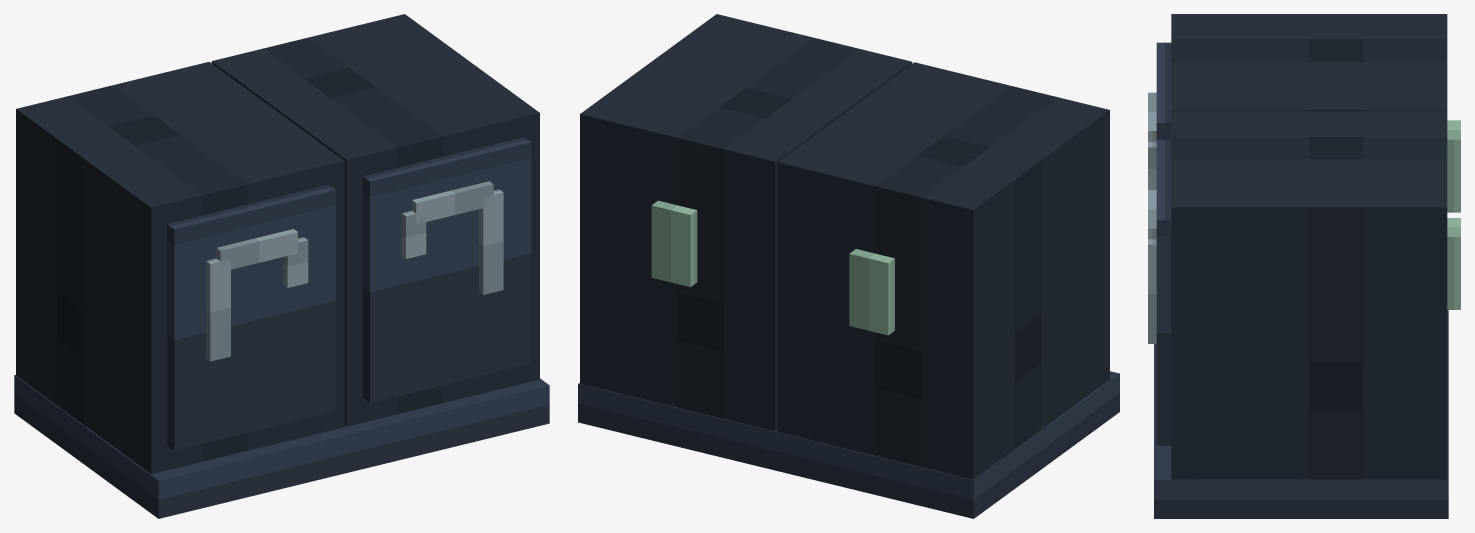
Rendered from zhuji_wuyao_yeque_boots.obj.
3 renders of one model, left to right at view 1: azimuth 30°, elevation 25°; view 2: azimuth 150°, elevation 25°; view 3: azimuth 270°, elevation 25°, orthographic. The views are drawn at different scales.
Visible parts, largest first — view 1: night_boot_-1, night_boot_1, night_boot_face_1, night_boot_face_-1, night_sole_-1, night_sole_1, night_boot_seal_-1_0, night_boot_seal_1_0, night_boot_seal_1_1, night_boot_seal_-1_1, night_boot_seal_1_2, night_boot_seal_-1_2; view 2: night_boot_-1, night_boot_1, night_sole_-1, night_sole_1, night_heel_1, night_heel_-1; view 3: night_boot_1, night_boot_-1, night_sole_1, night_boot_face_1, night_boot_face_-1, night_heel_-1, night_heel_1, night_boot_seal_1_0, night_boot_seal_-1_1, night_boot_seal_1_1, night_boot_seal_-1_2.
Boxes of the visible parts, <box> form: night_boot_-1: <box>16,62,344,474</box>; night_boot_1: <box>211,14,539,426</box>; night_boot_face_1: <box>362,137,531,402</box>; night_boot_face_-1: <box>167,185,335,450</box>; night_sole_-1: <box>14,375,354,518</box>; night_sole_1: <box>344,378,549,470</box>; night_boot_seal_-1_0: <box>206,258,230,361</box>; night_boot_seal_1_0: <box>479,189,503,294</box>; night_boot_seal_1_1: <box>412,181,493,224</box>; night_boot_seal_-1_1: <box>216,229,297,270</box>; night_boot_seal_1_2: <box>401,211,426,258</box>; night_boot_seal_-1_2: <box>283,237,308,287</box>; night_boot_-1: <box>777,62,1109,479</box>; night_boot_1: <box>580,14,912,431</box>; night_sole_-1: <box>776,371,1119,518</box>; night_sole_1: <box>578,383,777,470</box>; night_heel_1: <box>651,200,697,286</box>; night_heel_-1: <box>849,249,894,335</box>; night_boot_1: <box>1171,111,1447,479</box>; night_boot_-1: <box>1171,14,1447,111</box>; night_sole_1: <box>1154,382,1448,518</box>; night_boot_face_1: <box>1156,140,1171,445</box>; night_boot_face_-1: <box>1156,42,1171,139</box>; night_heel_-1: <box>1447,120,1460,212</box>; night_heel_1: <box>1447,218,1460,309</box>; night_boot_seal_1_0: <box>1148,239,1156,343</box>; night_boot_seal_-1_1: <box>1148,92,1156,141</box>; night_boot_seal_1_1: <box>1148,190,1156,239</box>; night_boot_seal_-1_2: <box>1148,142,1156,189</box>.
Bounding box in the file's own units: 0.5375 × 0.4 × 0.3647.
